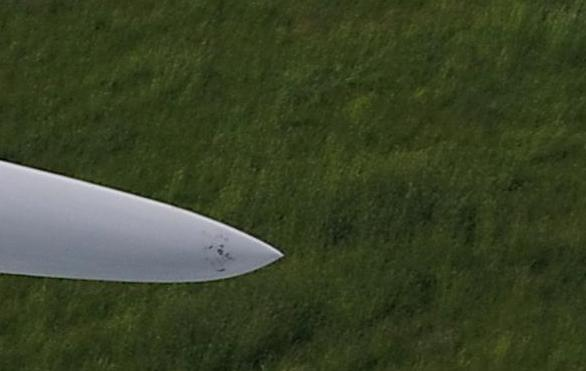damage: (202, 234, 234, 271)
